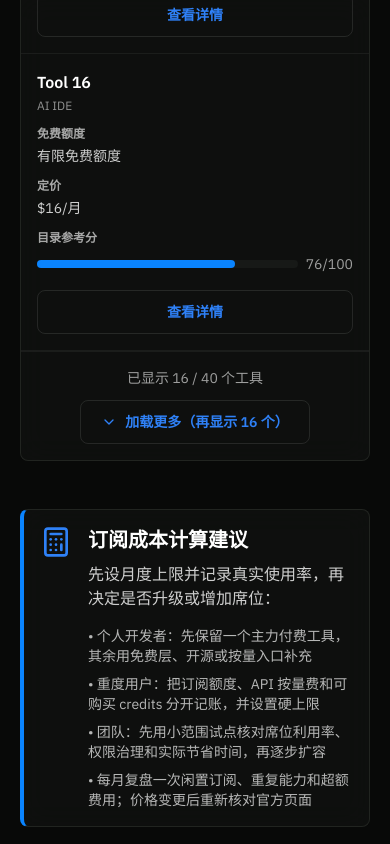
Test: Pricing › renders mobile pricing cards in batches while keeping every desktop row
(page scrolled)
Check: the message with test id "pricing-mobile-count" reads "已显示 16 / 40 个工具", box [127,369,263,387]
Click the button with test id "pricing-mobile-load-more" at (195, 422), box [80,400,310,444]
(page scrolled)
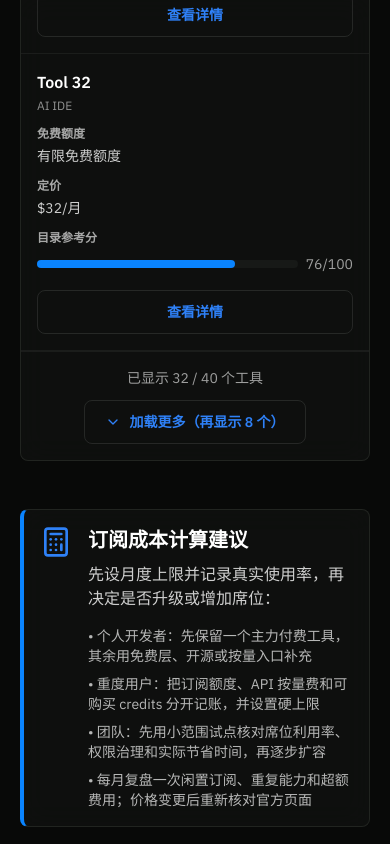
Check: the message with test id "pricing-mobile-count" reads "已显示 32 / 40 个工具", box [127,369,263,387]
Check: the button with test id "pricing-mobile-load-more" shows "再显示 8 个"
Click the button with test id "pricing-mobile-load-more" at (195, 422), box [84,400,306,444]
(page scrolled)
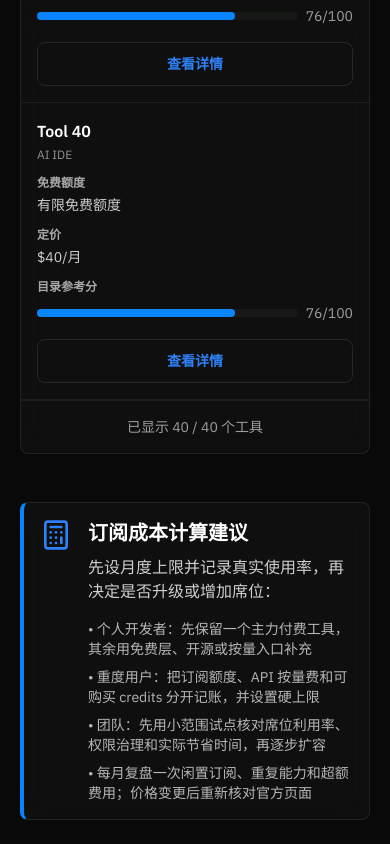
Check: the message with test id "pricing-mobile-count" reads "已显示 40 / 40 个工具", box [127,418,263,436]
